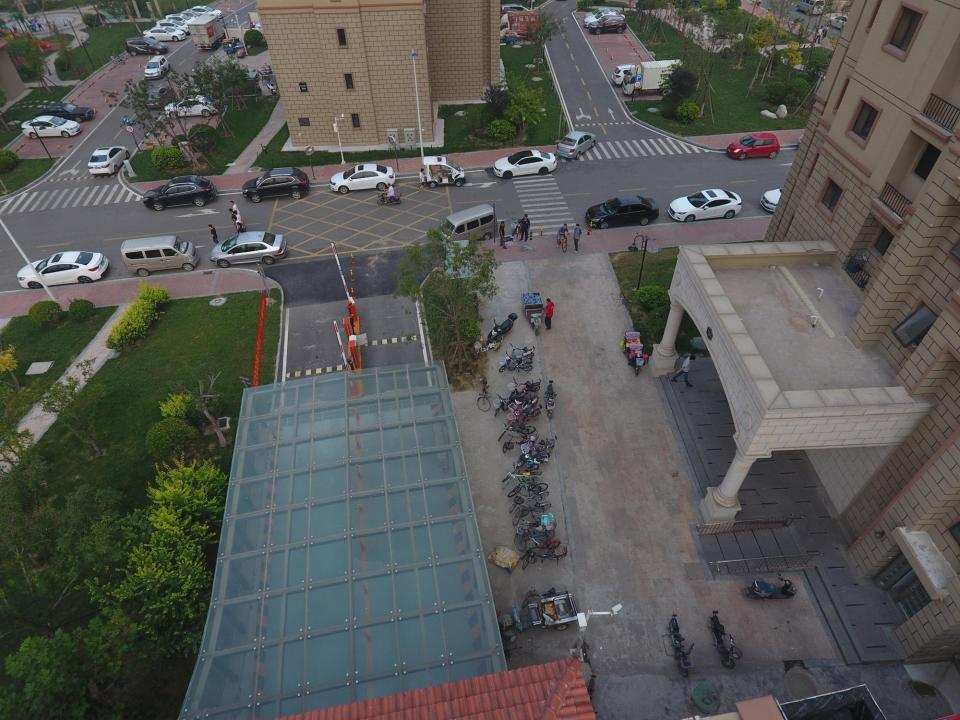car: (16, 250, 110, 290), (209, 231, 287, 268), (143, 175, 217, 212), (584, 195, 660, 230), (667, 188, 743, 222), (242, 167, 311, 203), (330, 164, 396, 194), (492, 150, 557, 180), (760, 183, 812, 213), (21, 115, 82, 140), (726, 132, 780, 160), (164, 94, 222, 120), (88, 146, 130, 176), (36, 102, 94, 123), (556, 130, 596, 160), (140, 85, 176, 110), (611, 63, 649, 86), (499, 3, 544, 22), (589, 14, 627, 35), (494, 9, 535, 28), (583, 11, 626, 28), (142, 26, 186, 42), (153, 18, 192, 36), (143, 55, 171, 80), (164, 13, 198, 30), (185, 5, 223, 19), (583, 7, 620, 21), (828, 14, 855, 32), (176, 10, 210, 24)
truck: (622, 58, 687, 98), (496, 8, 546, 41), (186, 14, 228, 49)
van: (120, 235, 199, 277), (435, 204, 498, 248), (125, 37, 169, 56), (796, 0, 825, 16)
